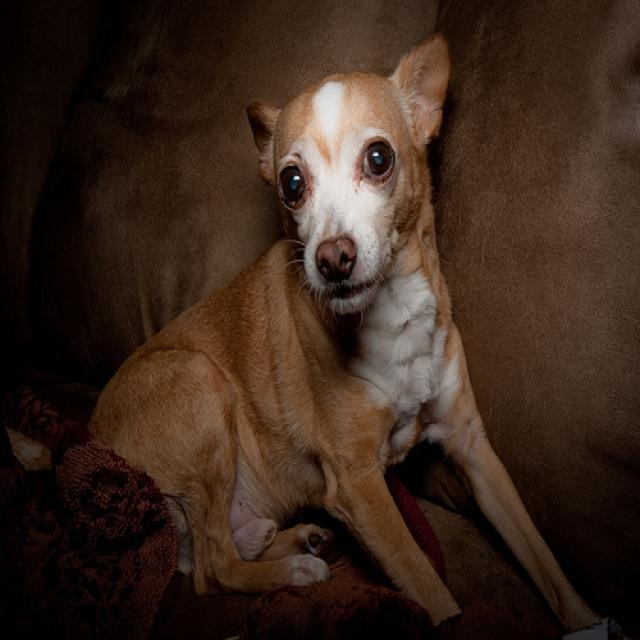dog-chihuahua: (81, 23, 613, 637)
